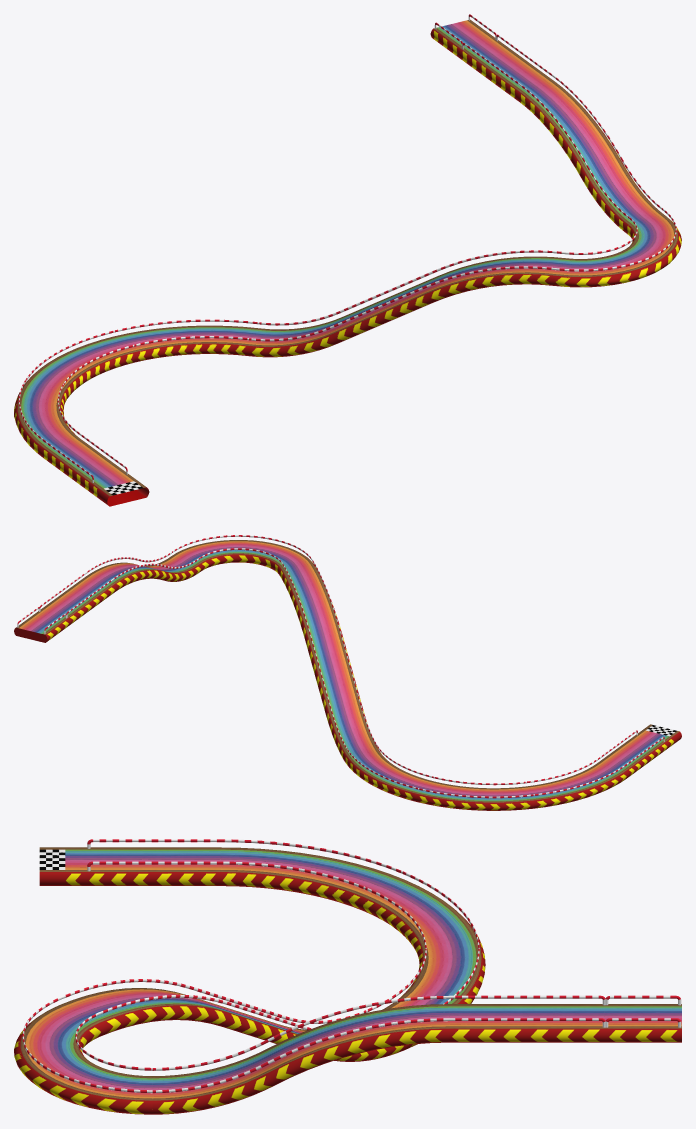
The model's file is map12_bonus.fbx.
3 views of the same model, one above another, from view 1: azimuth 30°, elevation 25°; view 2: azimuth 150°, elevation 25°; view 3: azimuth 270°, elevation 25° (orthographic). The views are drawn at different scales.
Visible parts, largest first — view 1: Terrain_Right_Flat_Bar_U_shape_2, Terrain_CurveDown_Bar_3_1, Terrain_Left_Flat_Bar_3, Terrain_CurveDown_Bar_3_1__1_, Terrain_Left_Flat_Bar_3__1_, Terrain_Left_Flat_Bar_3__2_, Terrain_CurveDown_Bar_3_3, Terrain_Flat_BarEnd_2, Terrain_Flat_BarStart_1, Terrain_CurveDown_Bar_3_2__1_, Terrain_CurveDown_Bar_3_3__1_, Dummy_Start_1 (+1 smaller); view 2: Terrain_CurveDown_Bar_3_2__1_, Terrain_CurveDown_Bar_3_1__1_, Terrain_Right_Flat_Bar_U_shape_2, Terrain_Left_Flat_Bar_3__1_, Terrain_Left_Flat_Bar_3__2_, Terrain_Left_Flat_Bar_3, Terrain_CurveDown_Bar_3_3__1_, Terrain_Flat_BarEnd_2, Terrain_Flat_BarStart_1, Terrain_CurveDown_Bar_3_1, Dummy_Start_1, Terrain_CurveDown_Bar_3_3; view 3: Terrain_Right_Flat_Bar_U_shape_2, Terrain_CurveDown_Bar_3_1, Terrain_Left_Flat_Bar_3__2_, Terrain_Flat_BarEnd_2, Terrain_Flat_BarStart_1, Terrain_Left_Flat_Bar_3__1_, Terrain_CurveDown_Bar_3_3, Terrain_CurveDown_Bar_3_1__1_, Terrain_Left_Flat_Bar_3, Dummy_Start_1, Terrain_CurveDown_Bar_3_2__1_, Dummy_Finish_1 (+12 smaller).
Part boxes in pixels (x1,y1,x2,y2): Terrain_Right_Flat_Bar_U_shape_2: (554, 215, 681, 287); Terrain_CurveDown_Bar_3_1: (516, 82, 622, 177); Terrain_Left_Flat_Bar_3: (114, 325, 259, 362); Terrain_CurveDown_Bar_3_1__1_: (427, 256, 566, 302); Terrain_Left_Flat_Bar_3__1_: (24, 336, 136, 398); Terrain_Left_Flat_Bar_3__2_: (14, 386, 79, 456); Terrain_CurveDown_Bar_3_3: (581, 163, 664, 233); Terrain_Flat_BarEnd_2: (40, 438, 137, 498); Terrain_Flat_BarStart_1: (459, 40, 555, 100); Terrain_CurveDown_Bar_3_2__1_: (331, 276, 437, 343); Terrain_CurveDown_Bar_3_3__1_: (248, 317, 341, 357); Dummy_Start_1: (430, 19, 498, 58); Terrain_CurveDown_Bar_3_2__1_: (305, 633, 362, 712); Terrain_CurveDown_Bar_3_1__1_: (278, 564, 341, 639); Terrain_Right_Flat_Bar_U_shape_2: (171, 540, 313, 573); Terrain_Left_Flat_Bar_3__1_: (416, 781, 534, 810); Terrain_Left_Flat_Bar_3__2_: (525, 763, 628, 808); Terrain_Left_Flat_Bar_3: (344, 751, 433, 801); Terrain_CurveDown_Bar_3_3__1_: (325, 706, 379, 759); Terrain_Flat_BarEnd_2: (598, 730, 674, 777); Terrain_Flat_BarStart_1: (40, 577, 115, 625); Terrain_CurveDown_Bar_3_1: (84, 562, 167, 592); Dummy_Start_1: (14, 611, 70, 642); Terrain_CurveDown_Bar_3_3: (145, 556, 202, 581); Terrain_Right_Flat_Bar_U_shape_2: (14, 1005, 152, 1114); Terrain_CurveDown_Bar_3_1: (269, 1004, 449, 1084); Terrain_Left_Flat_Bar_3__2_: (220, 847, 404, 910); Terrain_Flat_BarEnd_2: (65, 847, 220, 885); Terrain_Flat_BarStart_1: (449, 1004, 604, 1042); Terrain_Left_Flat_Bar_3__1_: (361, 880, 485, 964); Terrain_CurveDown_Bar_3_3: (152, 1048, 276, 1114); Terrain_CurveDown_Bar_3_1__1_: (59, 988, 228, 1036); Terrain_Left_Flat_Bar_3: (382, 958, 485, 1049); Dummy_Start_1: (604, 1004, 681, 1042); Terrain_CurveDown_Bar_3_2__1_: (197, 999, 300, 1043); Dummy_Finish_1: (39, 847, 65, 885).
Size of the model in its own units: 7311 by 2032 by 5175.
6 materials, 5 textured.
